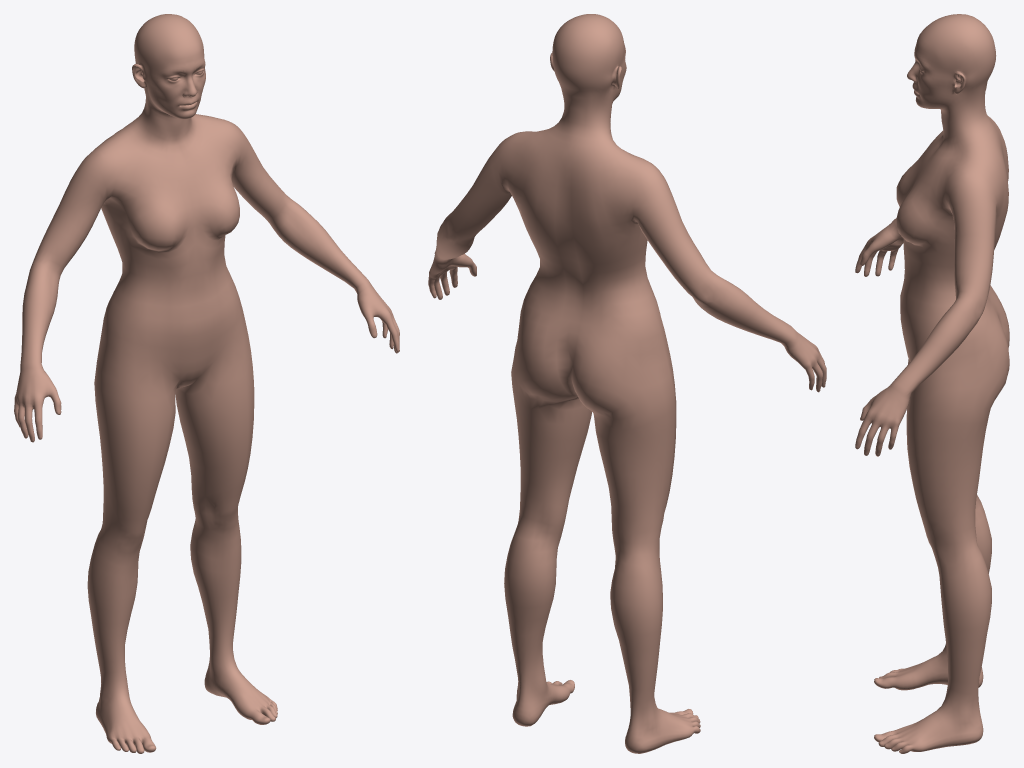
Rendered from Female.glb.
3 views of the same model, side by side, from view 1: azimuth 30°, elevation 25°; view 2: azimuth 150°, elevation 25°; view 3: azimuth 270°, elevation 25° (orthographic). The views are drawn at different scales.
Parts seen in each view (by area): view 1: LOD7; view 2: LOD7; view 3: LOD7.
Part boxes in pixels (x1,y1,x2,y2): LOD7: (14, 14, 399, 753); LOD7: (428, 14, 826, 753); LOD7: (855, 14, 1009, 753).
Bounding box in the file's own units: 0.1325 × 0.2329 × 0.0467.
